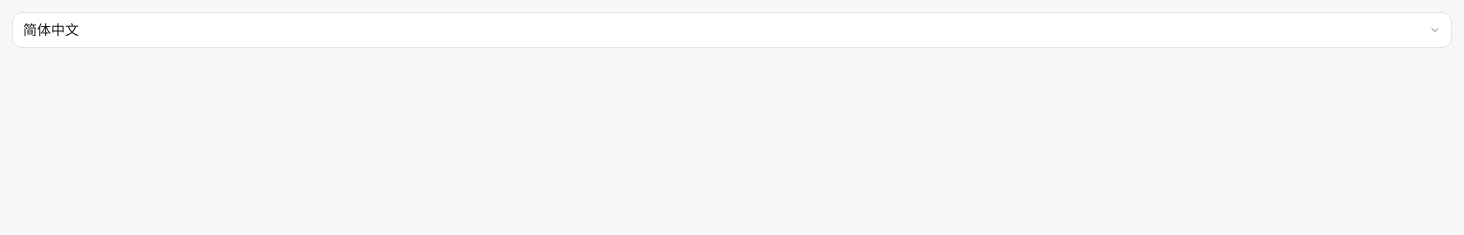
Select › 选中一项后回调拿到对应的值，并收起面板
Click the button.
click(51, 30)  # box [12, 12, 1452, 48]
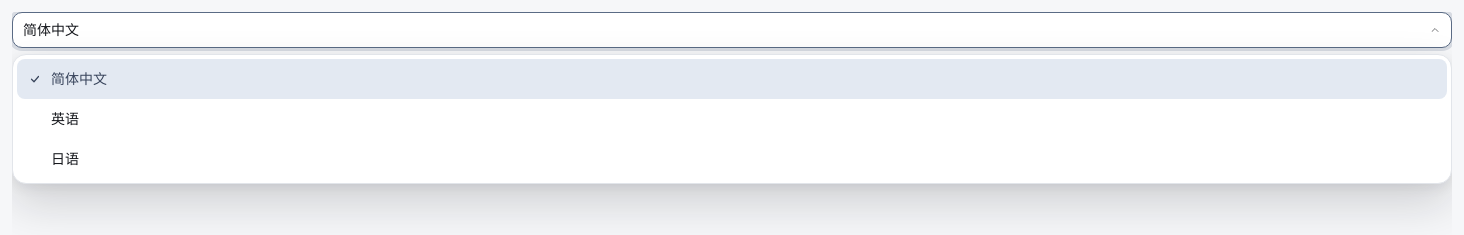
Click the option "日语".
click(65, 159)  # box [17, 139, 1447, 179]
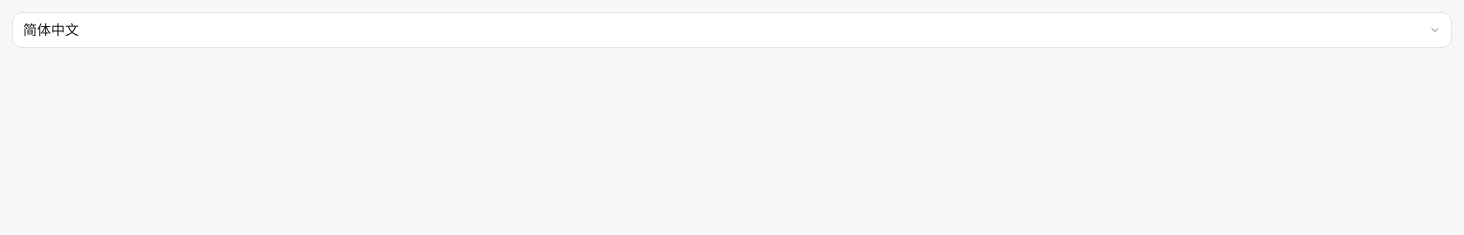
Expected: the list is gone
